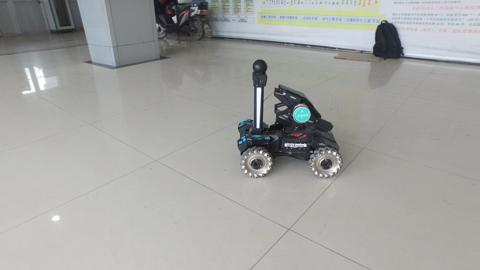bag: (370, 18, 405, 61)
chariot: (235, 58, 343, 178)
